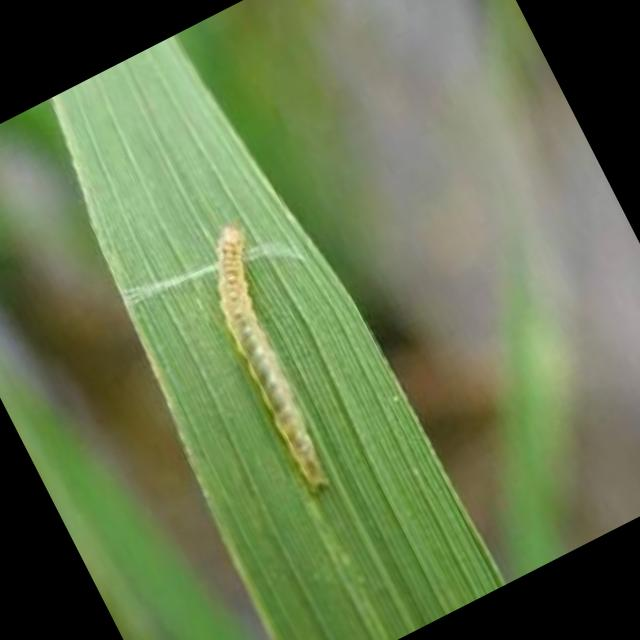leaf-folder: (154, 192, 383, 524)
